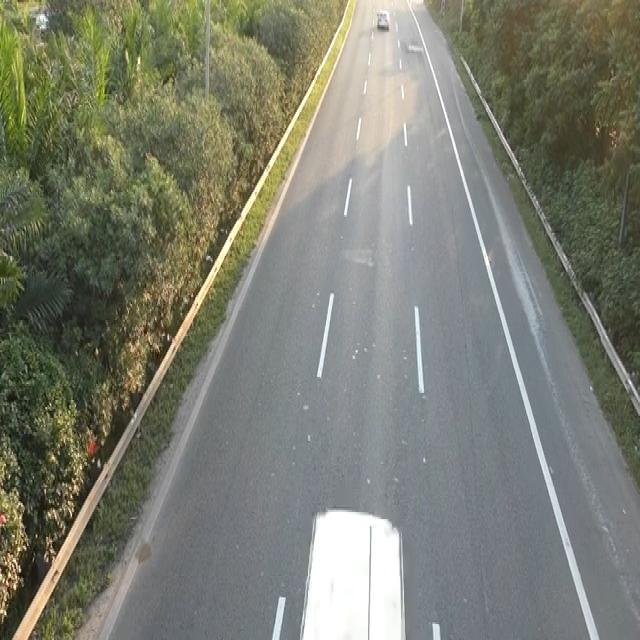bus: (375, 7, 390, 30)
minivan: (297, 503, 409, 638)
